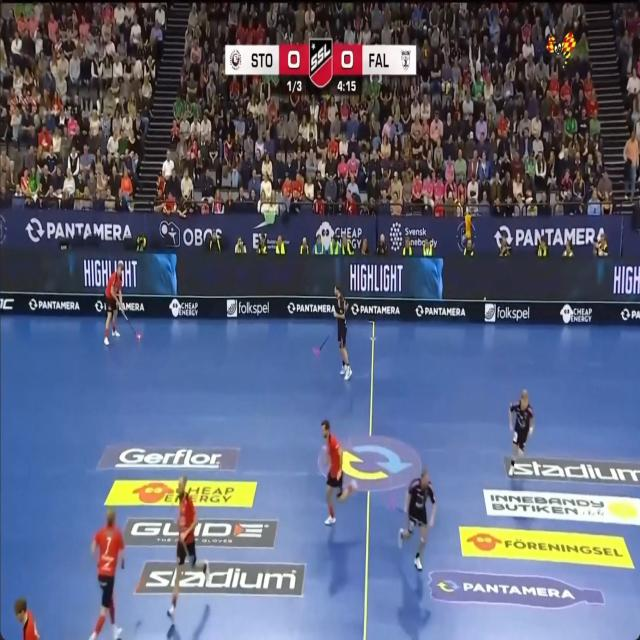Balls: (136, 333, 141, 339), (483, 296, 486, 301)
player: (167, 475, 208, 619), (89, 509, 124, 639), (398, 469, 437, 569), (322, 420, 356, 525), (508, 390, 533, 475), (333, 284, 352, 379), (103, 260, 123, 345), (14, 597, 39, 639)
